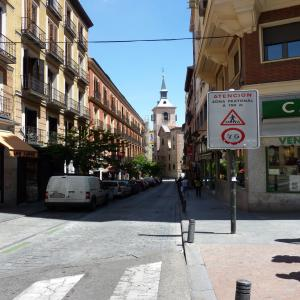Vehicle-registration-plate: (50, 196, 65, 199)
